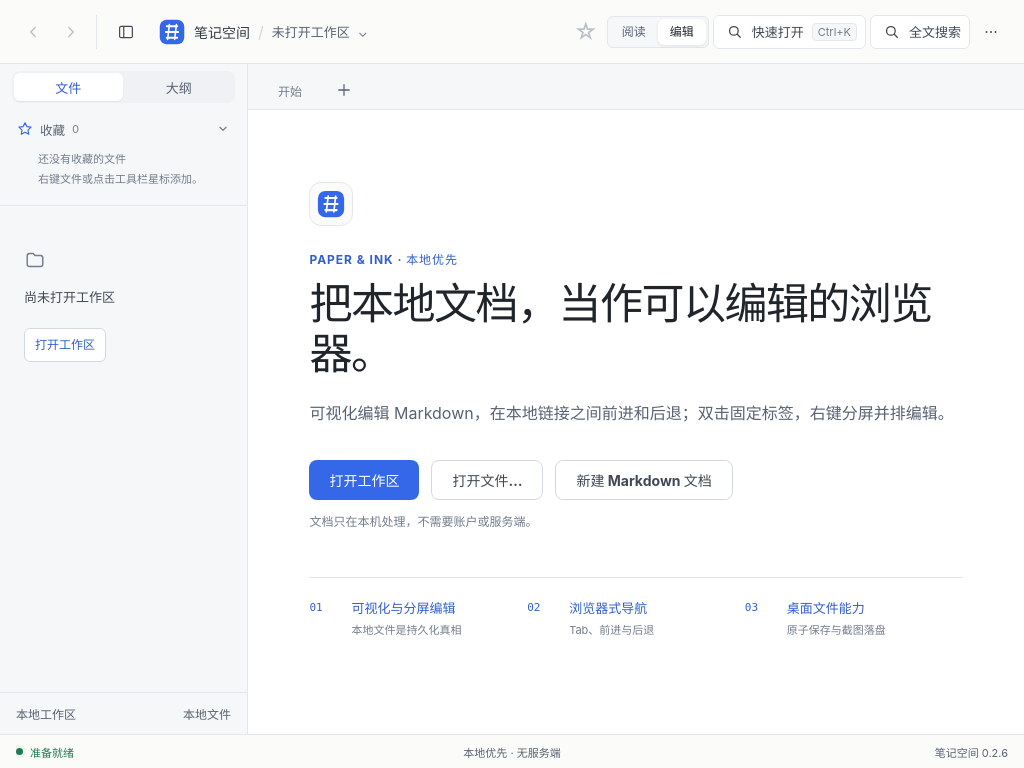
Scenario: AppShell › keeps deletion confirmation exclusive from native commands and window close
Click the button "打开工作区" below "尚未打开工作区" at {"x": 65, "y": 345}, box [24, 328, 106, 362]
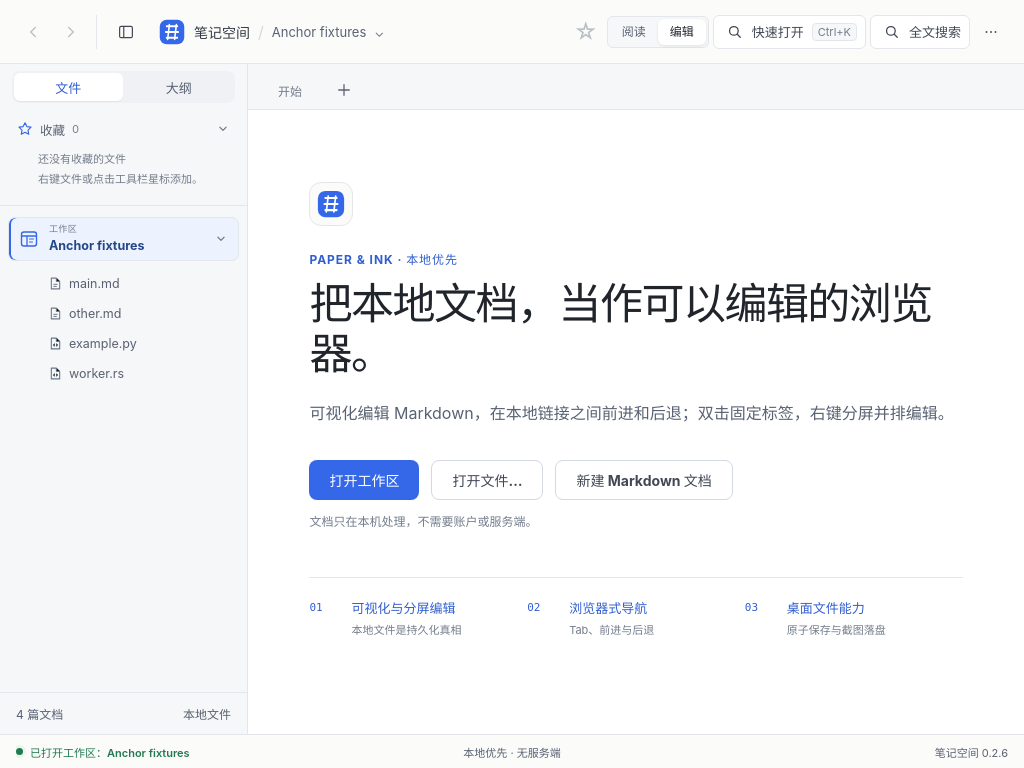
Right-click the button "example.py" at {"x": 124, "y": 343}, box [8, 328, 239, 358]
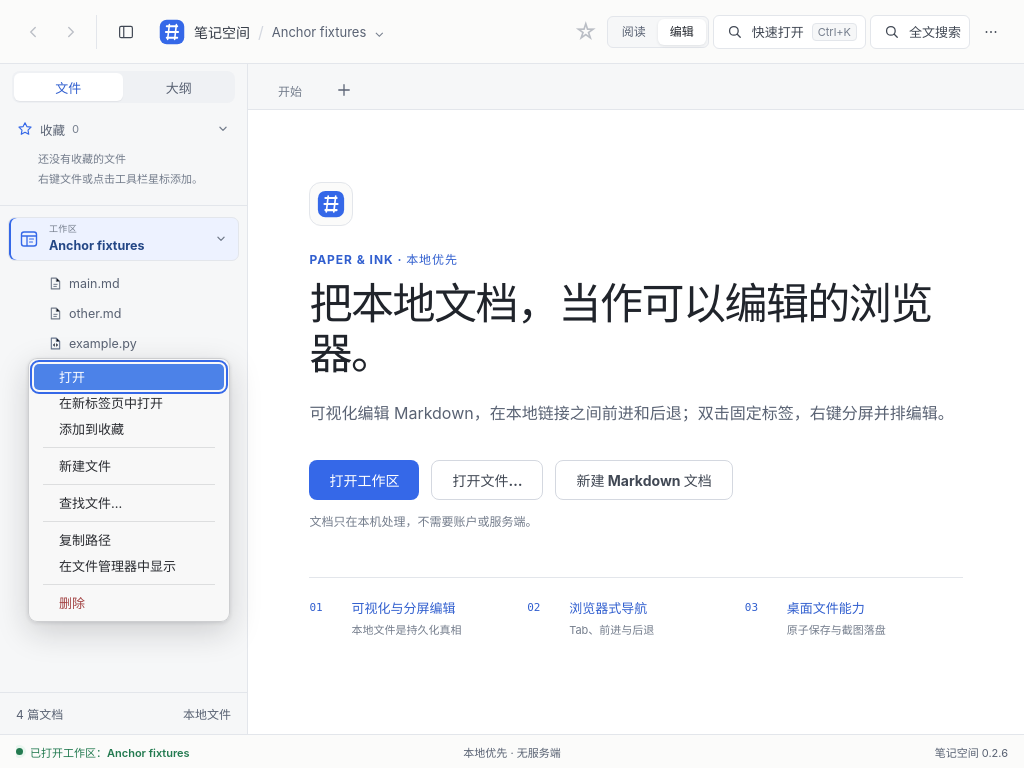
Click the menu item "删除" at {"x": 129, "y": 603}, box [34, 590, 224, 616]
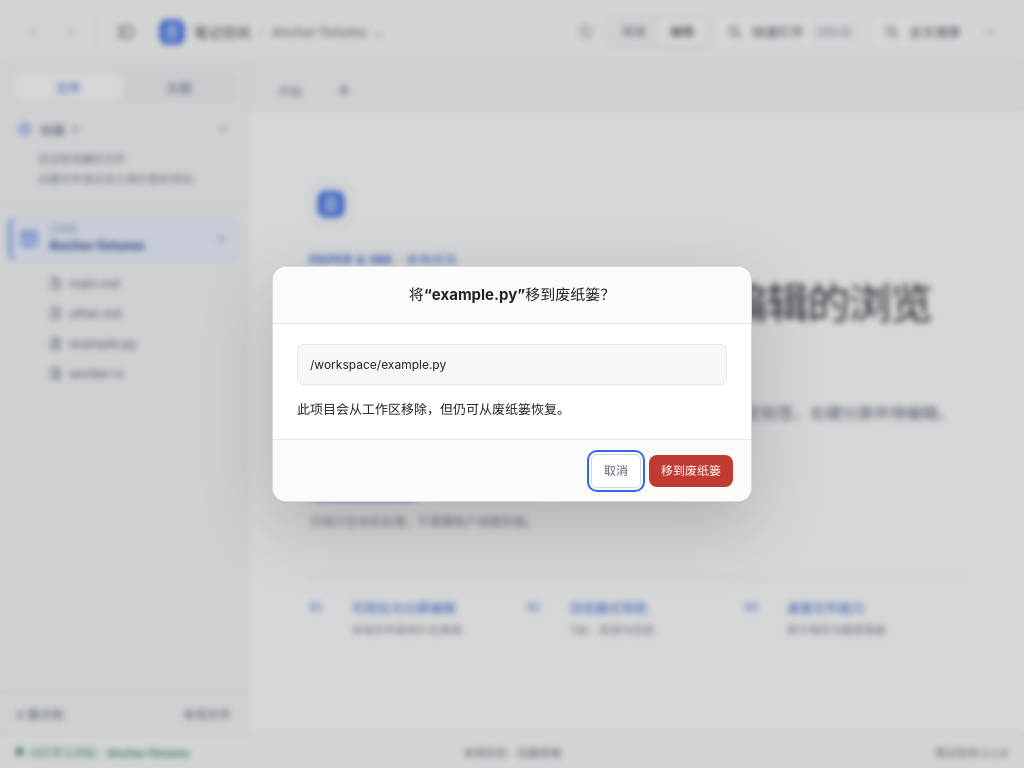
Result: the number of dialogs is 1 at [272, 266, 752, 502]
Click the button "取消" at {"x": 616, "y": 471}, box [591, 454, 641, 488]
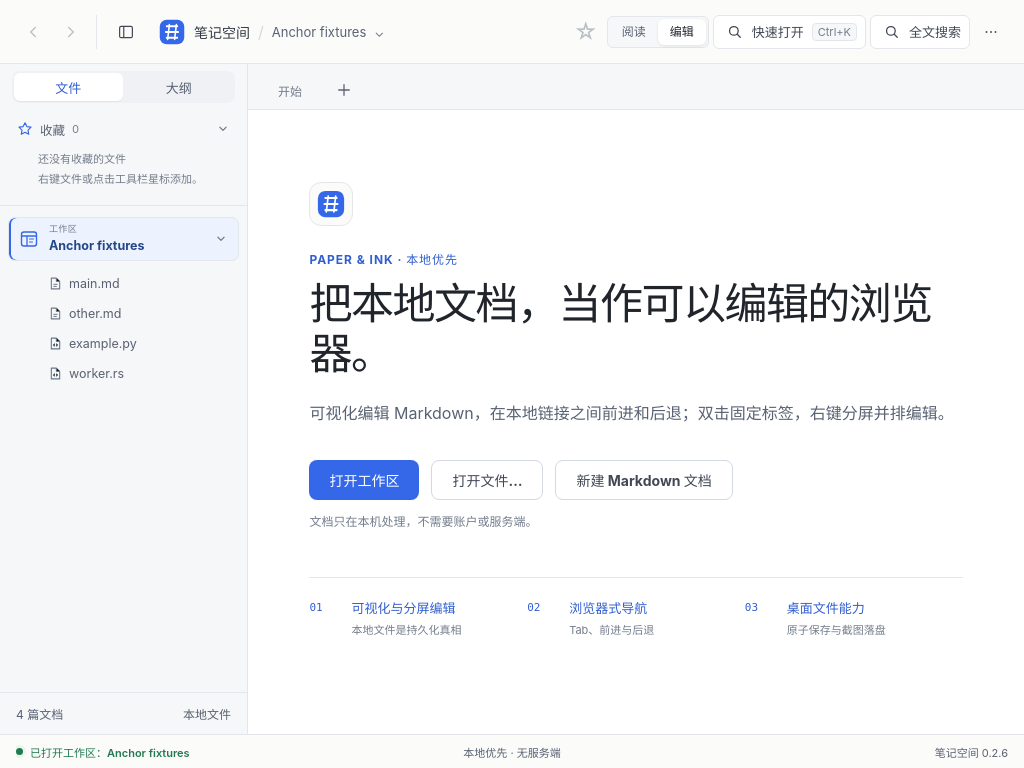
Result: the dialog is gone
